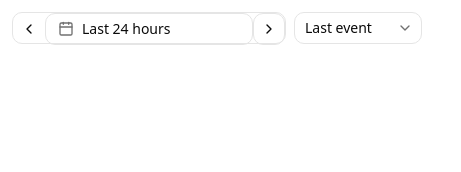
Test: TimeRangePicker › offers the four time fields
Later steps or results of the test are not shown.
Press the mouse on the dropdown named "Time field" at (358, 28), box x1=294 y1=12 x2=422 y2=44
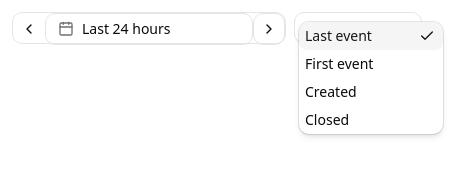
Expected: the option "Last event" is shown, x1=299 y1=22 x2=443 y2=50
Expected: the option "First event" is shown, x1=305 y1=54 x2=373 y2=73
Expected: the option "Created" is shown, x1=305 y1=82 x2=357 y2=101
